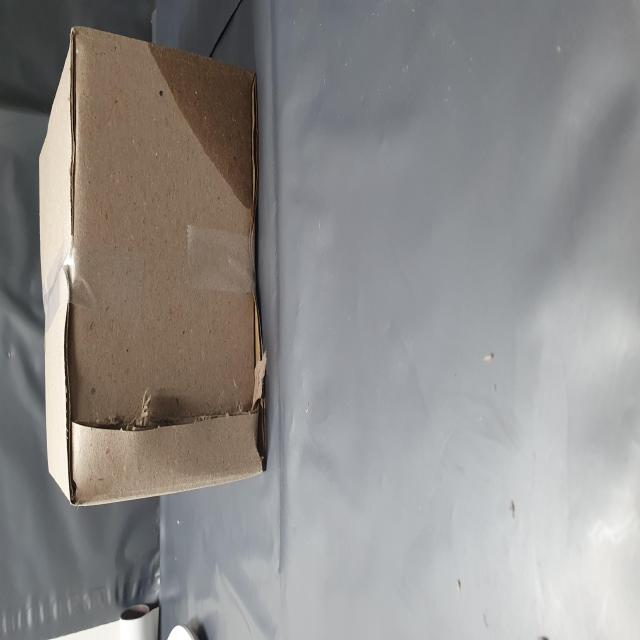wet: (229, 254, 332, 447)
